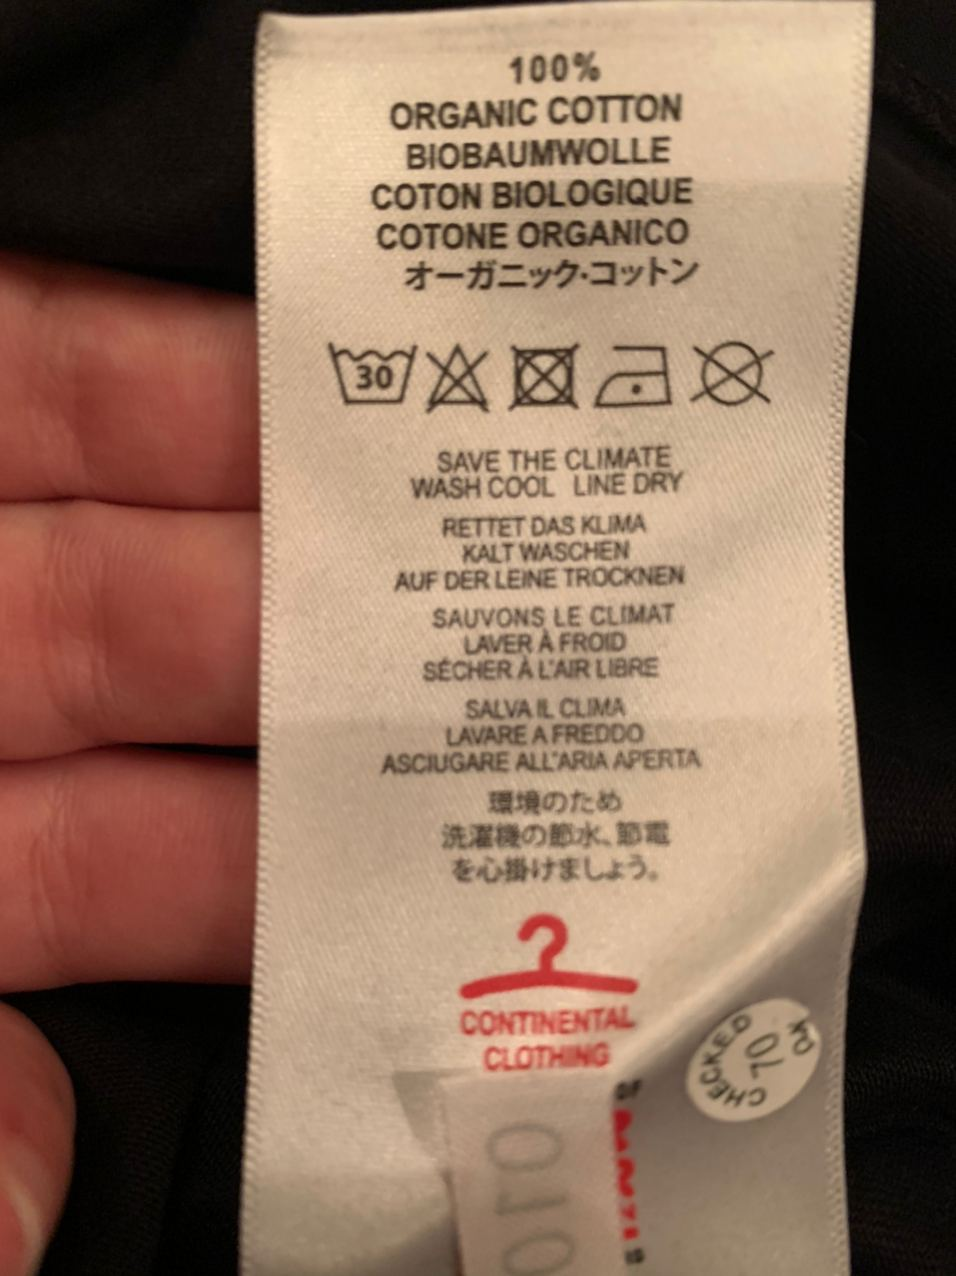do_not_bleach: (422, 334, 497, 416)
do_not_dry_clean: (684, 332, 781, 411)
do_not_tumble_drying: (503, 337, 587, 415)
ironing_at_low_temp: (589, 338, 679, 414)
wash_at_or_below_30: (323, 337, 420, 411)
